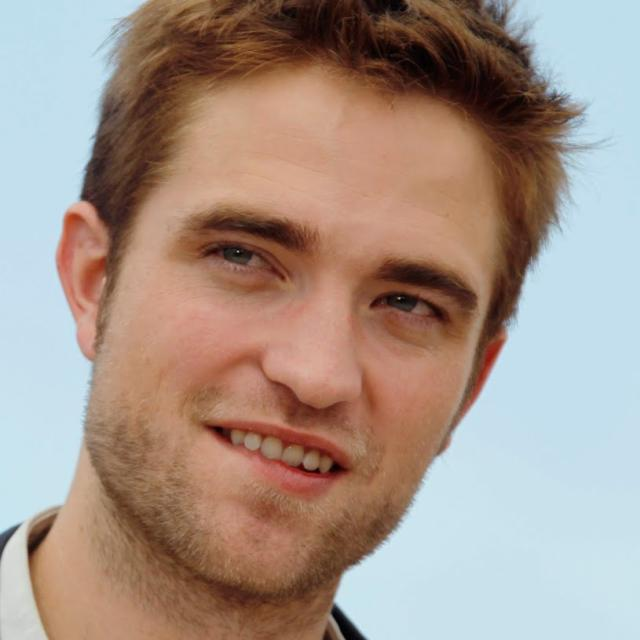Normal: (82, 66, 503, 594)
